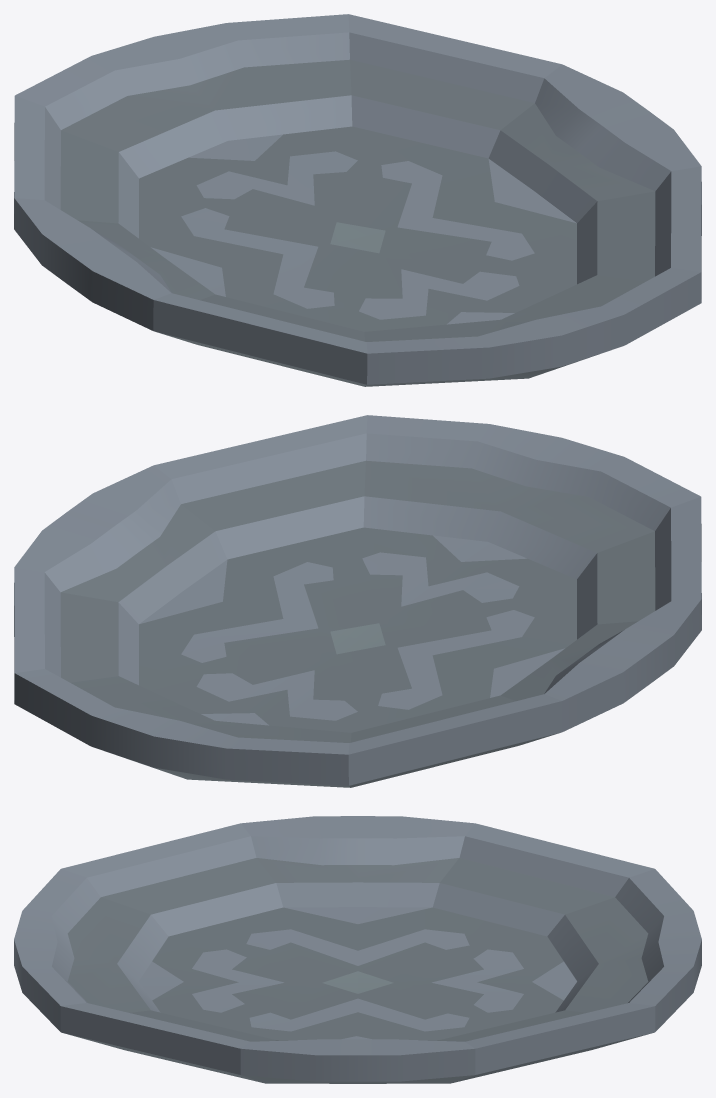
File: SM_Prop_Platter_01.fbx
3 renders of one model, top to bottom at view 1: azimuth 30°, elevation 25°; view 2: azimuth 150°, elevation 25°; view 3: azimuth 270°, elevation 25°, orthographic. The views are drawn at different scales.
Parts seen in each view (by area): view 1: SM_Prop_Platter_01; view 2: SM_Prop_Platter_01; view 3: SM_Prop_Platter_01.
Part boxes in pixels (left/top/right/bottom): SM_Prop_Platter_01: left=14, top=14, right=701, bottom=386; SM_Prop_Platter_01: left=14, top=415, right=701, bottom=787; SM_Prop_Platter_01: left=14, top=816, right=701, bottom=1083.
Bounding box in the file's own units: 44.41 × 5.33 × 53.92.
